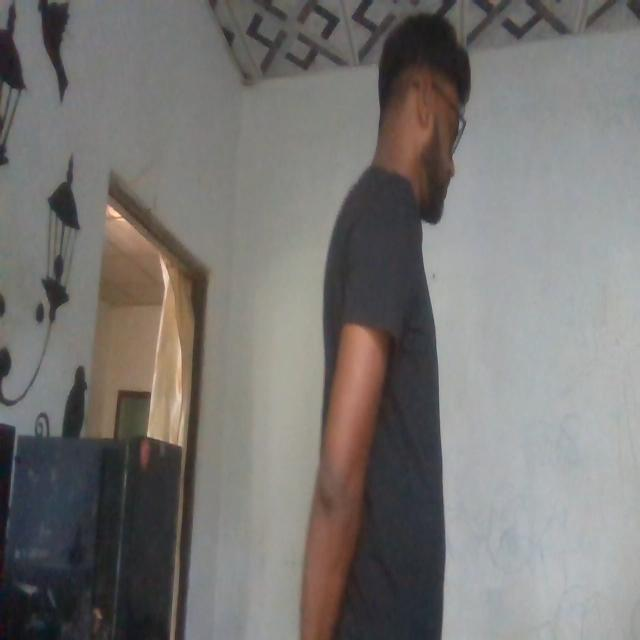Person: (299, 13, 501, 632)
